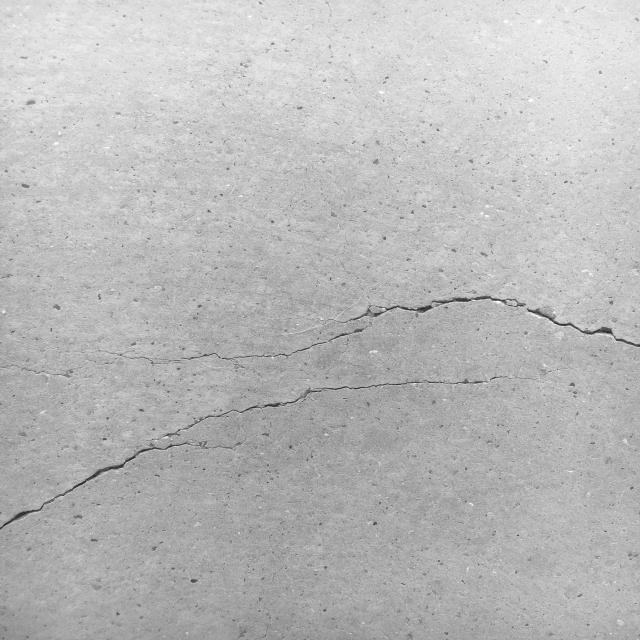SurfaceCrack: (1, 271, 640, 475)
